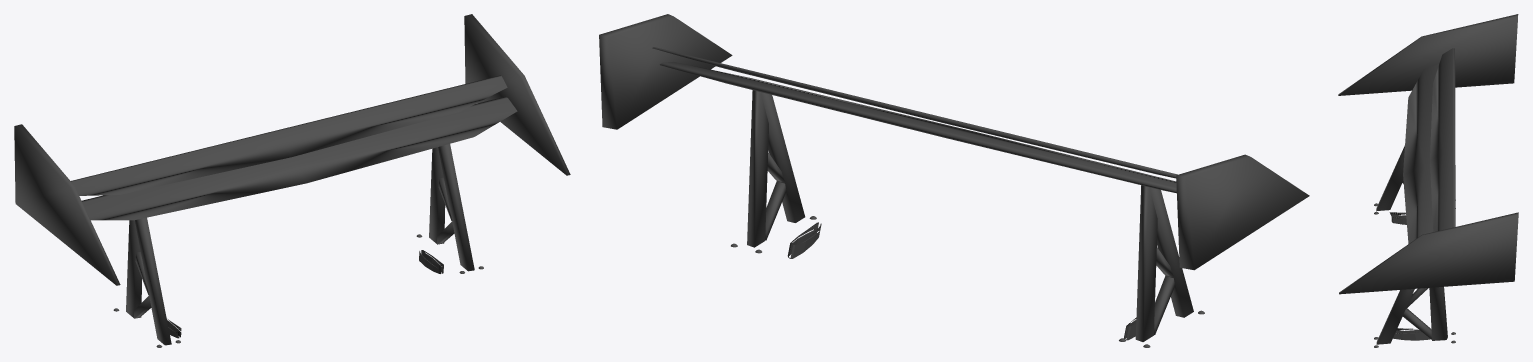
File: spoiler1.glb
3 renders of one model, left to right at view 1: azimuth 30°, elevation 25°; view 2: azimuth 150°, elevation 25°; view 3: azimuth 270°, elevation 25°, orthographic. The views are drawn at different scales.
Visible parts, largest first — view 1: Spoiler; view 2: Spoiler; view 3: Spoiler.
Part boxes in pixels (left/top/right/bottom): Spoiler: left=14, top=14, right=570, bottom=347; Spoiler: left=599, top=14, right=1309, bottom=347; Spoiler: left=1338, top=14, right=1518, bottom=347.
Bounding box in the file's own units: 1.29 × 0.4998 × 0.4854.
Materials: 1 (1 with a texture image).
